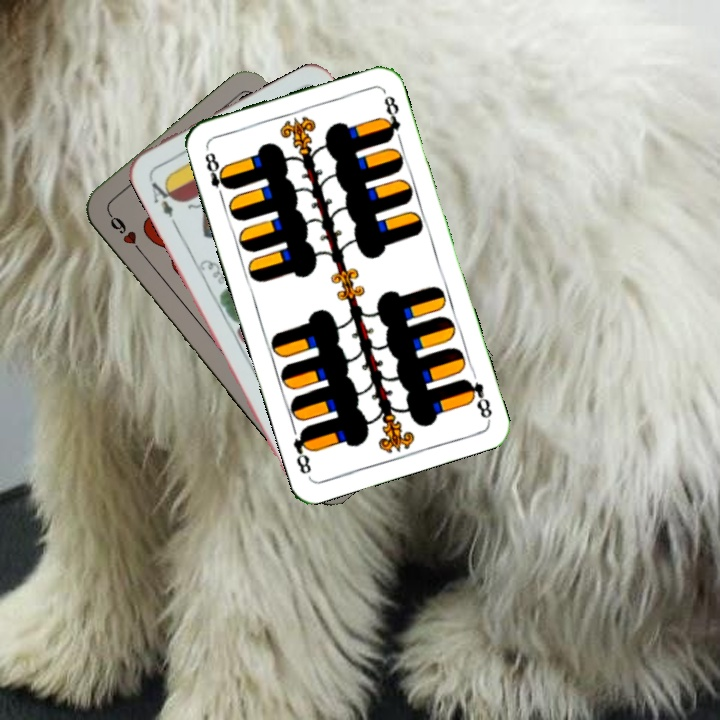E8: (201, 148, 233, 202), (459, 374, 495, 422)
EA: (144, 173, 178, 220)
H9: (104, 208, 147, 258)
